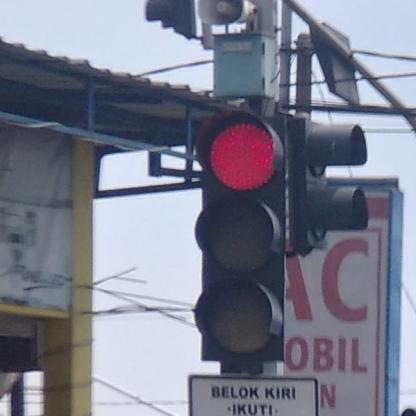red: (196, 113, 286, 358)
